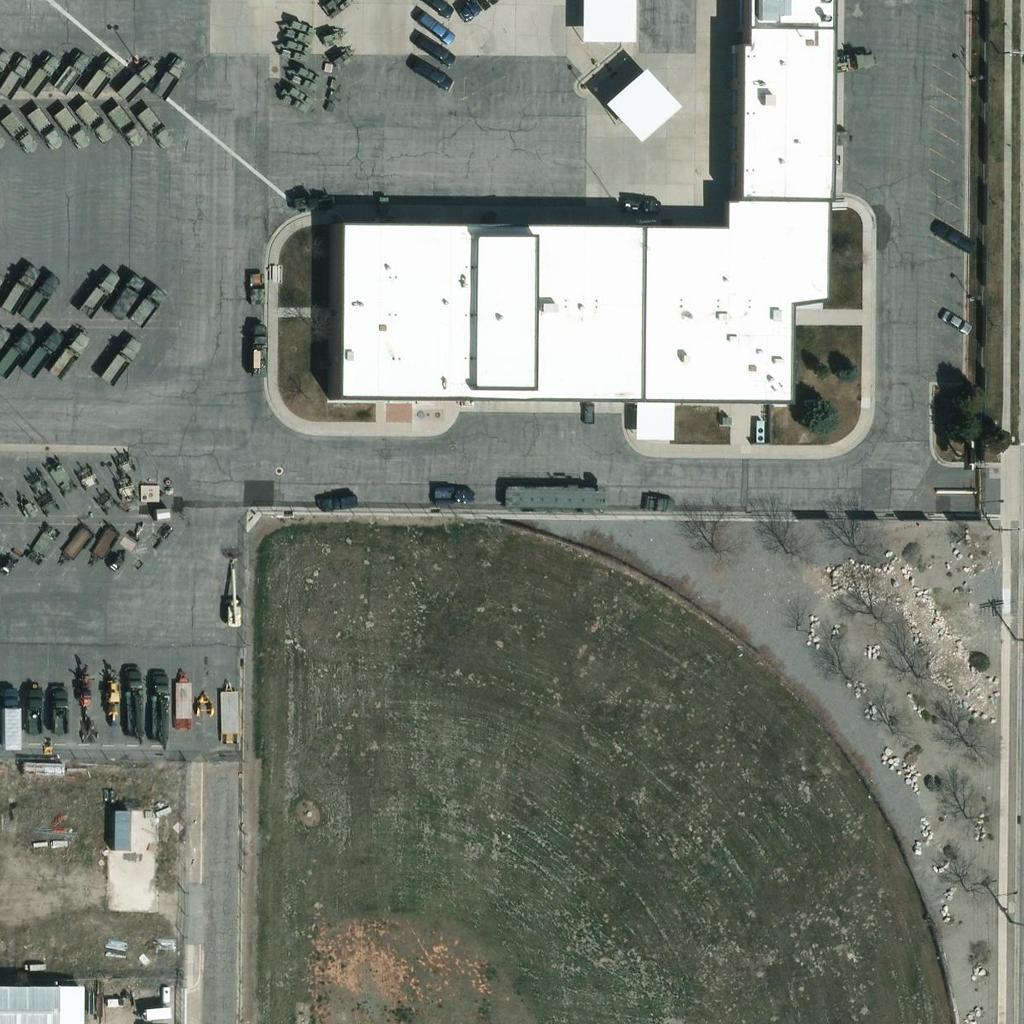car: (422, 12, 456, 46), (423, 32, 457, 66), (420, 57, 454, 91), (934, 216, 968, 250), (240, 271, 274, 305), (937, 302, 971, 336), (642, 484, 676, 518), (17, 683, 51, 717), (44, 686, 78, 720), (419, 0, 453, 19)
